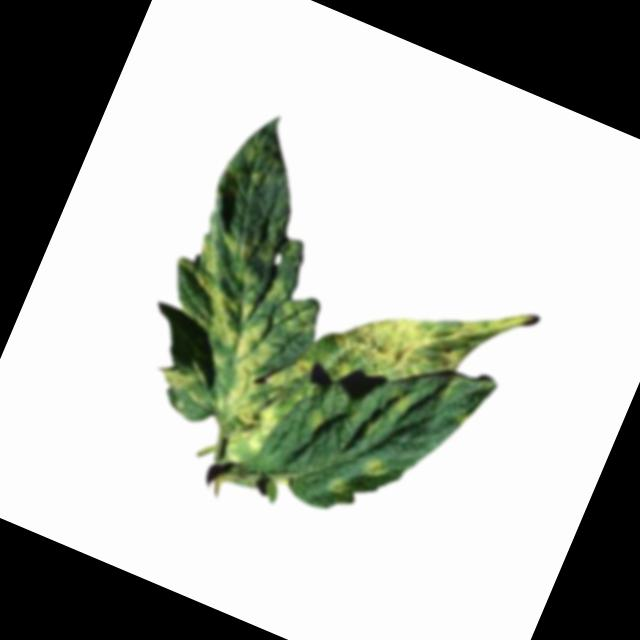Leaf_Mold: (114, 216, 349, 475), (323, 248, 553, 433), (153, 358, 201, 398), (298, 402, 331, 437), (359, 450, 395, 481), (323, 474, 347, 497)
